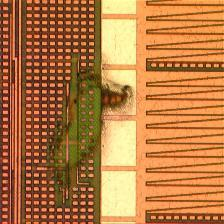PARTICLE: (46, 51, 136, 211)
